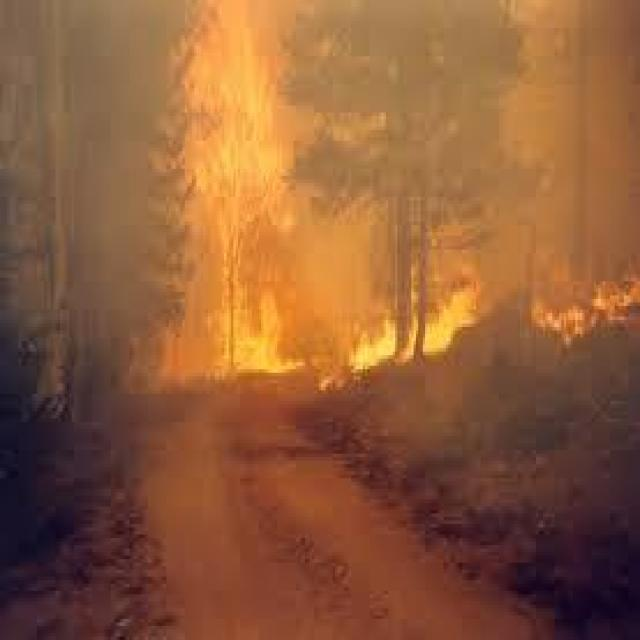fire: (167, 16, 318, 404), (512, 254, 633, 366), (340, 297, 464, 369)
